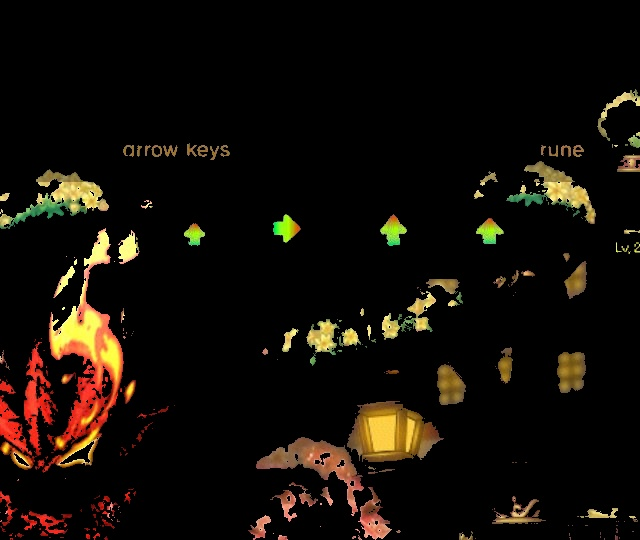right: (265, 208, 307, 249)
up: (467, 209, 509, 254), (374, 210, 416, 254), (180, 217, 213, 252)
